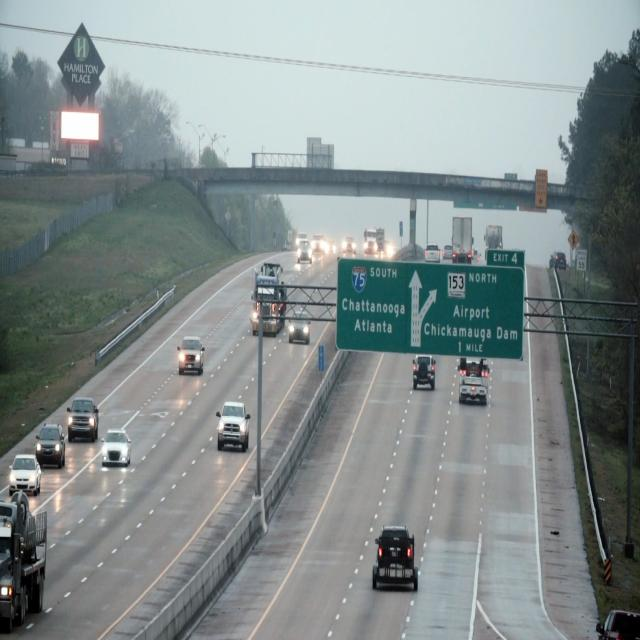Car: (371, 526, 421, 592), (250, 259, 285, 335), (216, 399, 252, 456), (456, 355, 491, 409), (66, 395, 100, 443), (9, 453, 42, 497), (37, 421, 66, 468), (103, 426, 131, 467), (177, 335, 205, 376), (411, 354, 436, 395), (286, 309, 312, 344)
